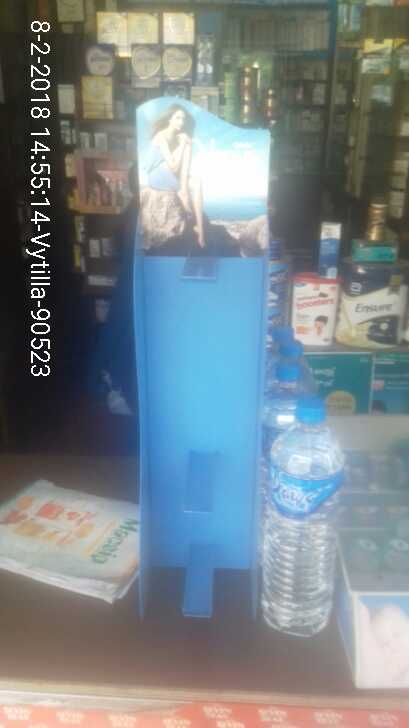reject: (174, 286, 228, 341)
